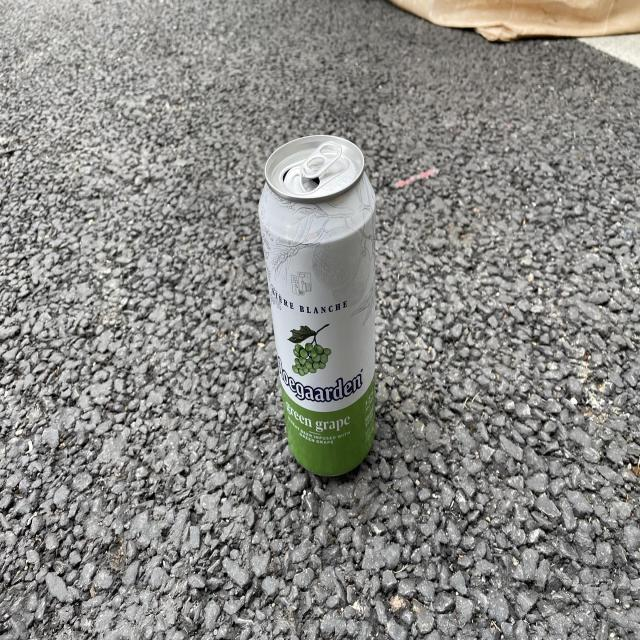can: (259, 134, 376, 476)
